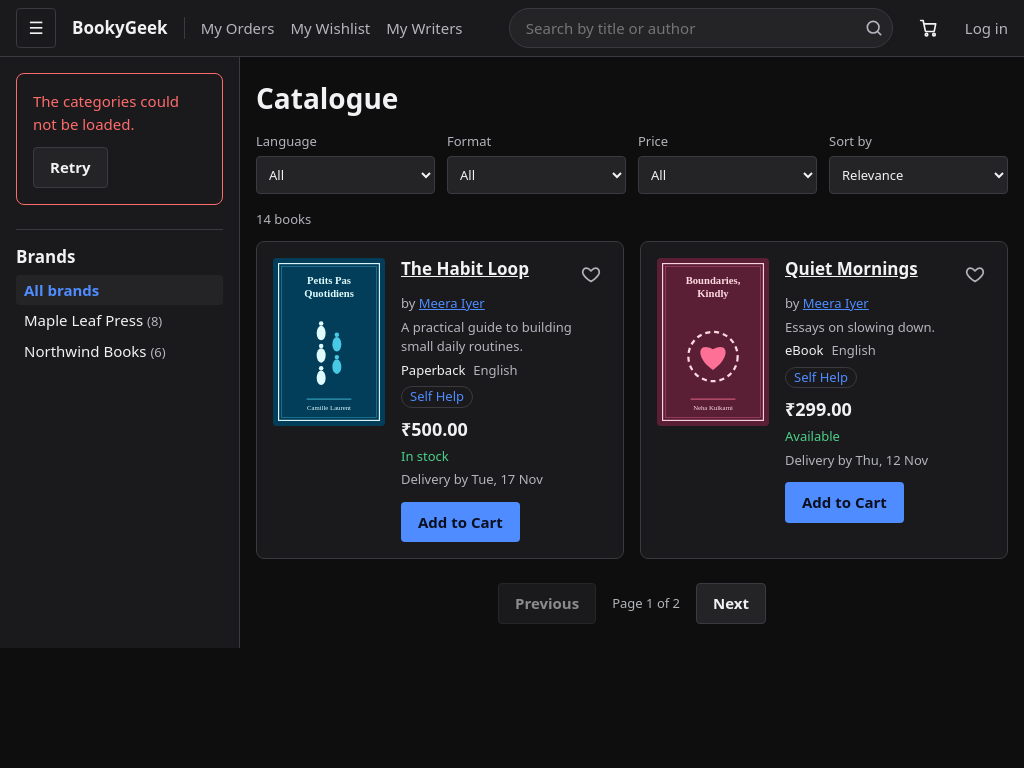
Test: CataloguePage › keeps the page usable when the categories fail to load, and retries them
The width and height of the screenshot is (1024, 768).
Expected: the text "The categories could not be loaded." is shown, [33,91,179,134]
Expected: the heading "The Habit Loop" is shown, [401,258,529,280]
What coordinates should you click on to do the following:
click the button "Retry"
I would click on:
 (70, 167)
Its box is [33,147,108,188].
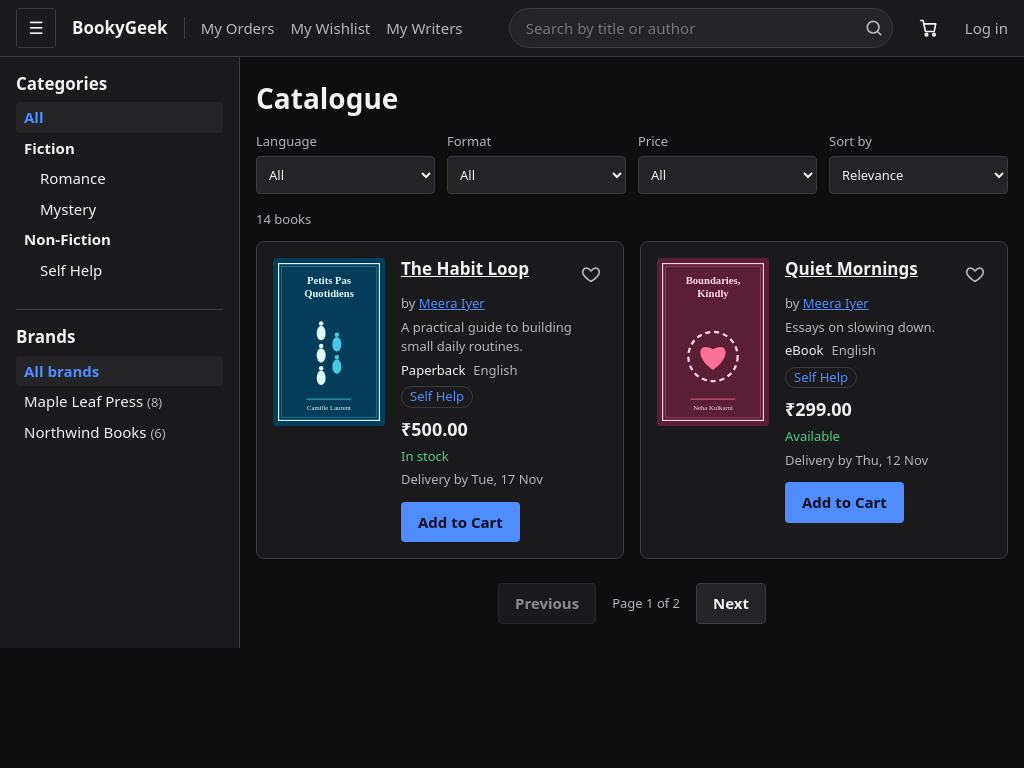
Result: the button "Non-Fiction" is shown at [16,224,223,255]
